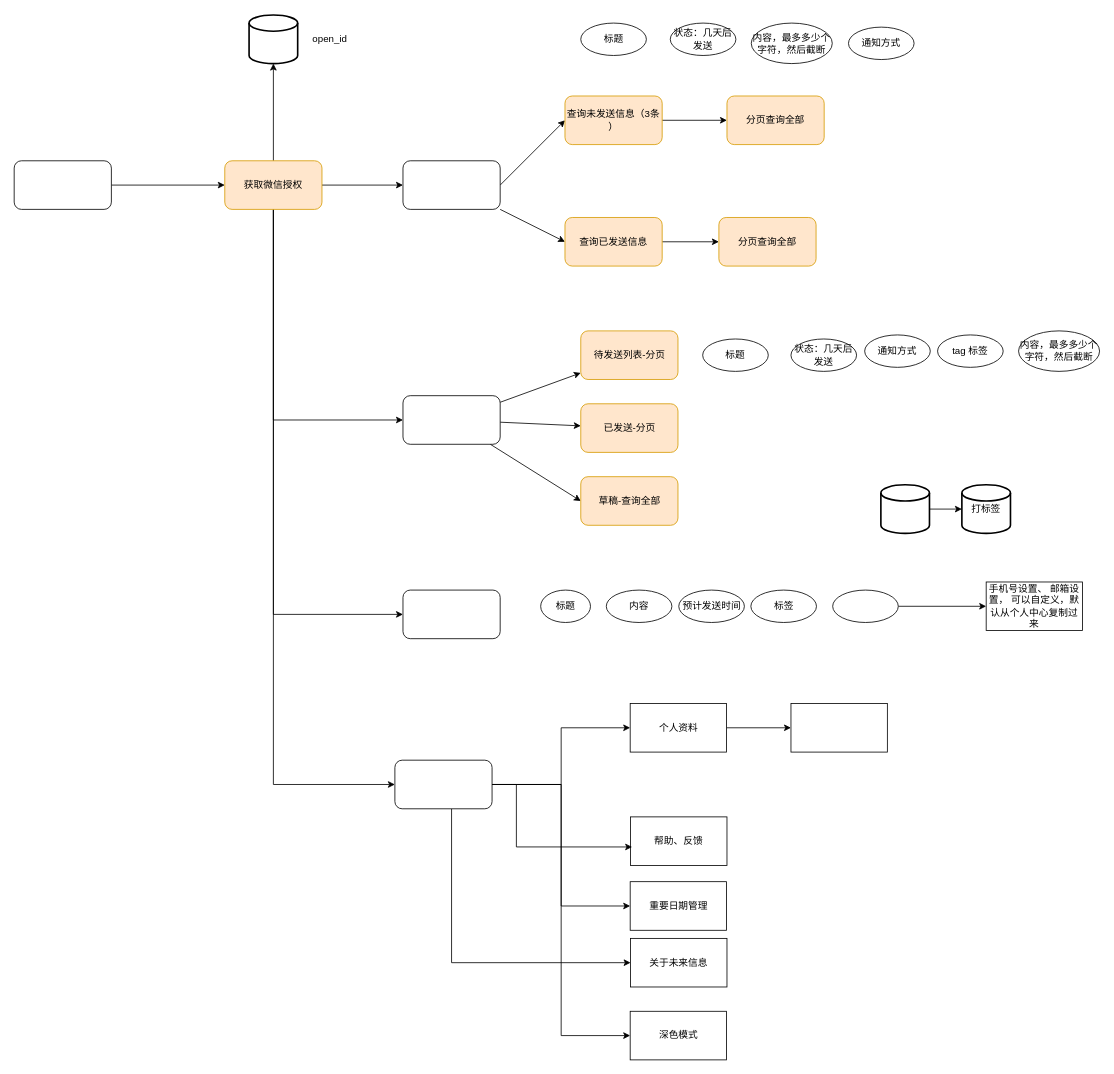
Some shapes in this 1114 by 1074 pixel diagram are drawn without their labels. Here are the shapes that lost their labels. From the top down, the centre of each, then its label:
At (x=273, y=39): "用户表".
At (x=62, y=184): "打开微信界面".
At (x=451, y=184): "主页".
At (x=451, y=419): "我的胶囊".
At (x=905, y=509): "消息表".
At (x=451, y=614): "创建".
At (x=865, y=605): "选择通知方式".
At (x=838, y=727): "手机号设置 邮箱设置".
At (x=443, y=784): "个人中心".
